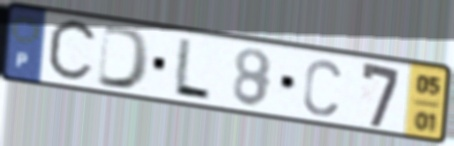7: (361, 59, 401, 130)
8: (230, 47, 274, 109)
C: (44, 16, 101, 86), (301, 56, 344, 119)
D: (94, 23, 153, 93)
L: (170, 35, 214, 103)
